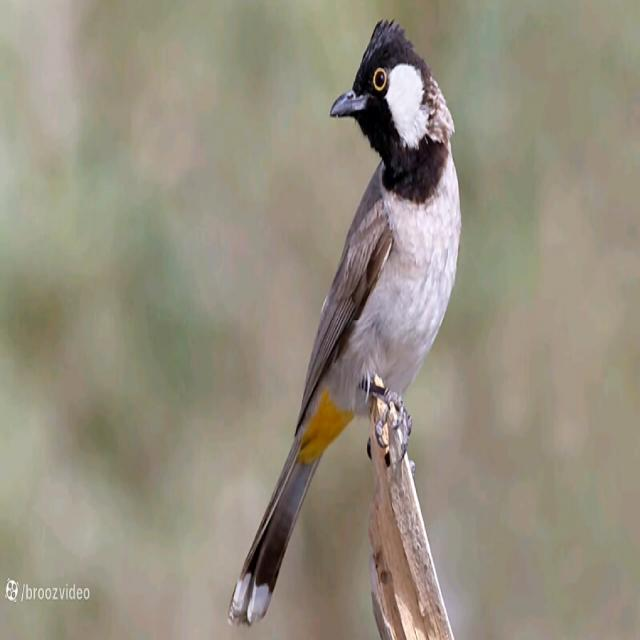bird: (228, 5, 465, 626)
